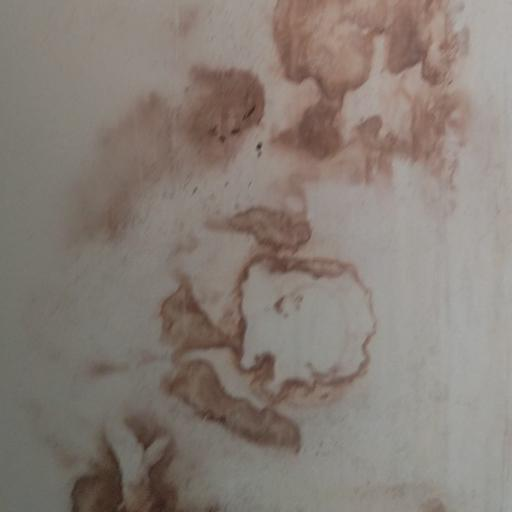stain: (51, 1, 512, 512)
